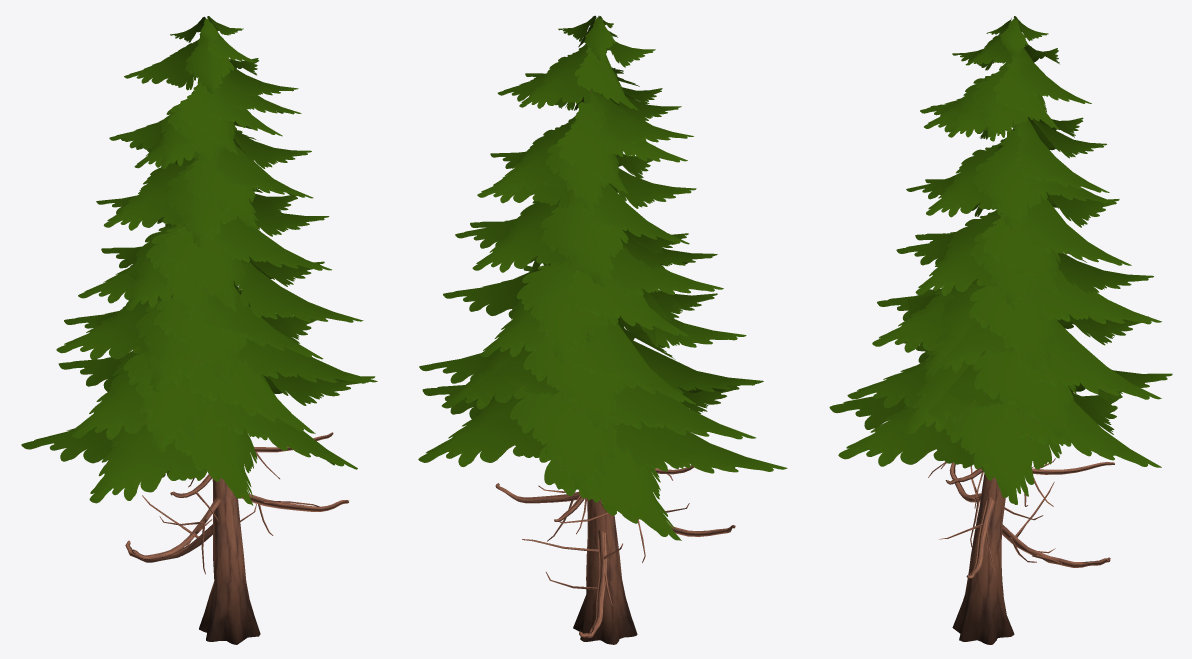
File: Pine_4.glb
3 views of the same model, side by side, from view 1: azimuth 30°, elevation 25°; view 2: azimuth 150°, elevation 25°; view 3: azimuth 270°, elevation 25° (orthographic). The views are drawn at different scales.
Parts seen in each view (by area): view 1: Pine_4; view 2: Pine_4; view 3: Pine_4.
Boxes of the visible parts, <box> form: Pine_4: <box>21,16,377,644</box>; Pine_4: <box>418,15,787,644</box>; Pine_4: <box>829,16,1172,644</box>.
Size of the model in its own units: 5.8 by 10.24 by 5.37.
2 materials, 2 textured.
